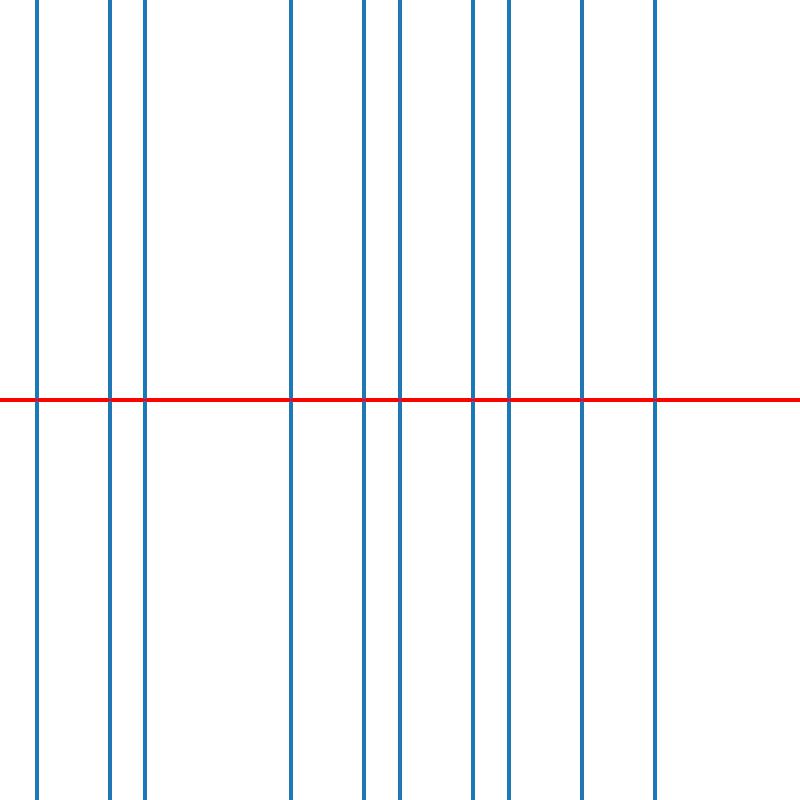root: (650, 396, 658, 404), (141, 396, 149, 404), (32, 396, 40, 404), (105, 396, 112, 404), (287, 396, 294, 404), (396, 396, 403, 404), (360, 396, 367, 404), (505, 396, 512, 404), (578, 396, 585, 404), (469, 396, 476, 404)
